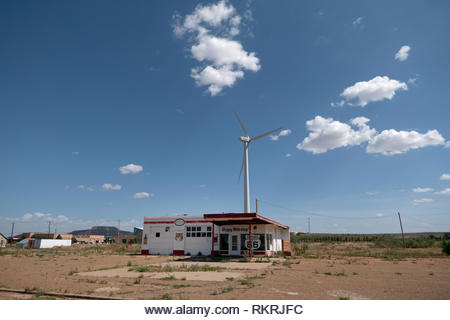working: (225, 109, 290, 180)
